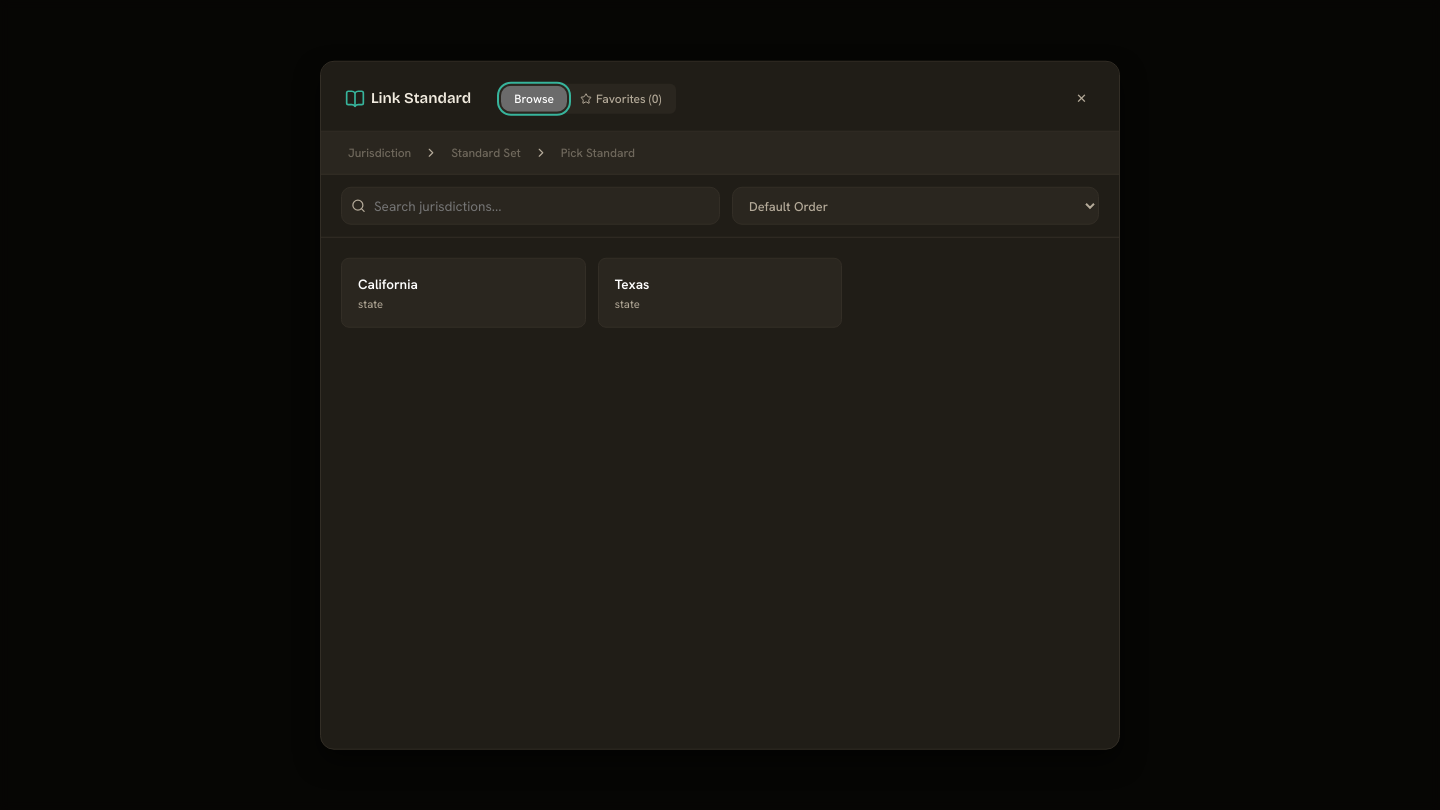
StandardsPickerModal › navigates back via breadcrumbs
Click the text "California" at (388, 284), box [358, 275, 418, 293]
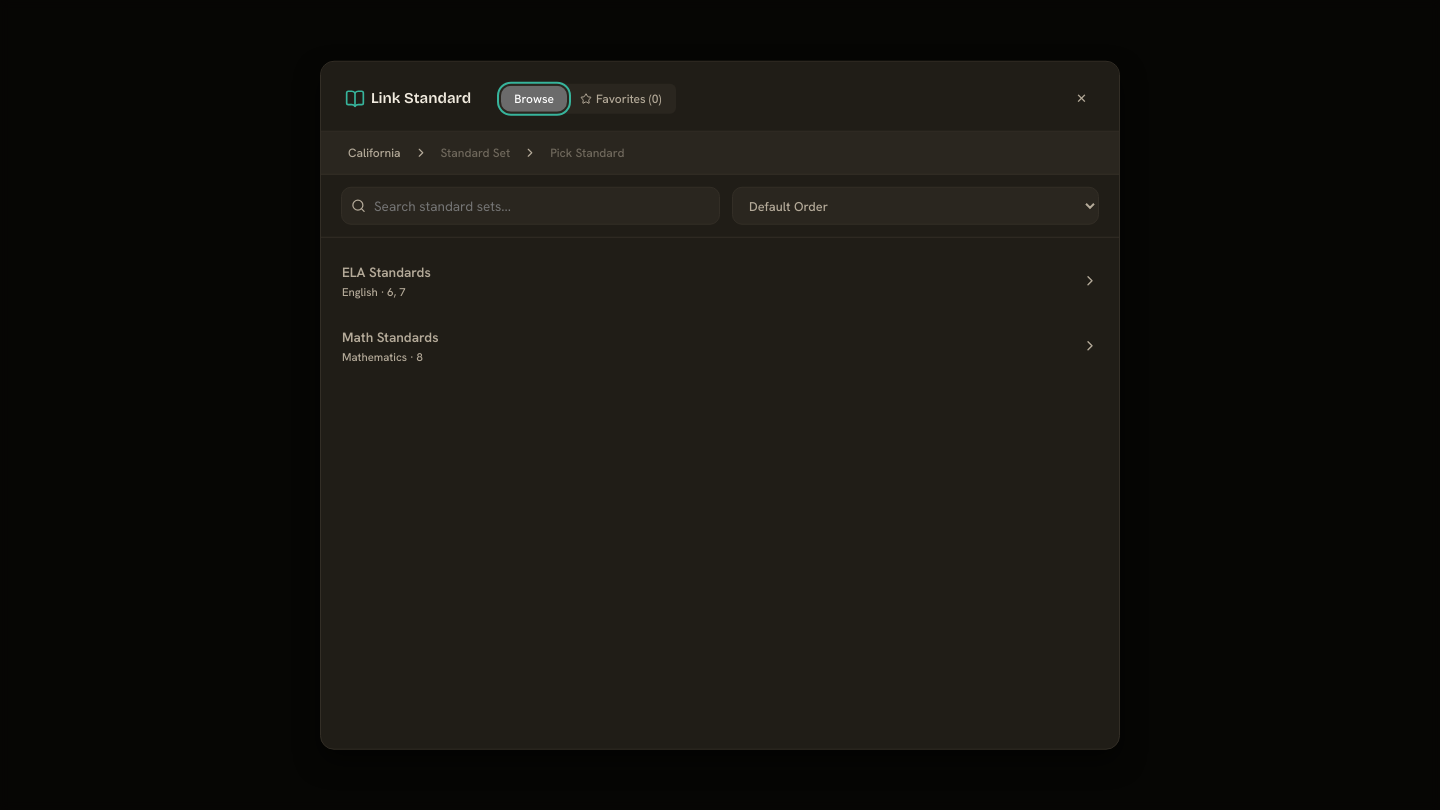
expect the text "ELA Standards" is shown: met
Click the text "ELA Standards" at (386, 272), box [342, 263, 431, 281]
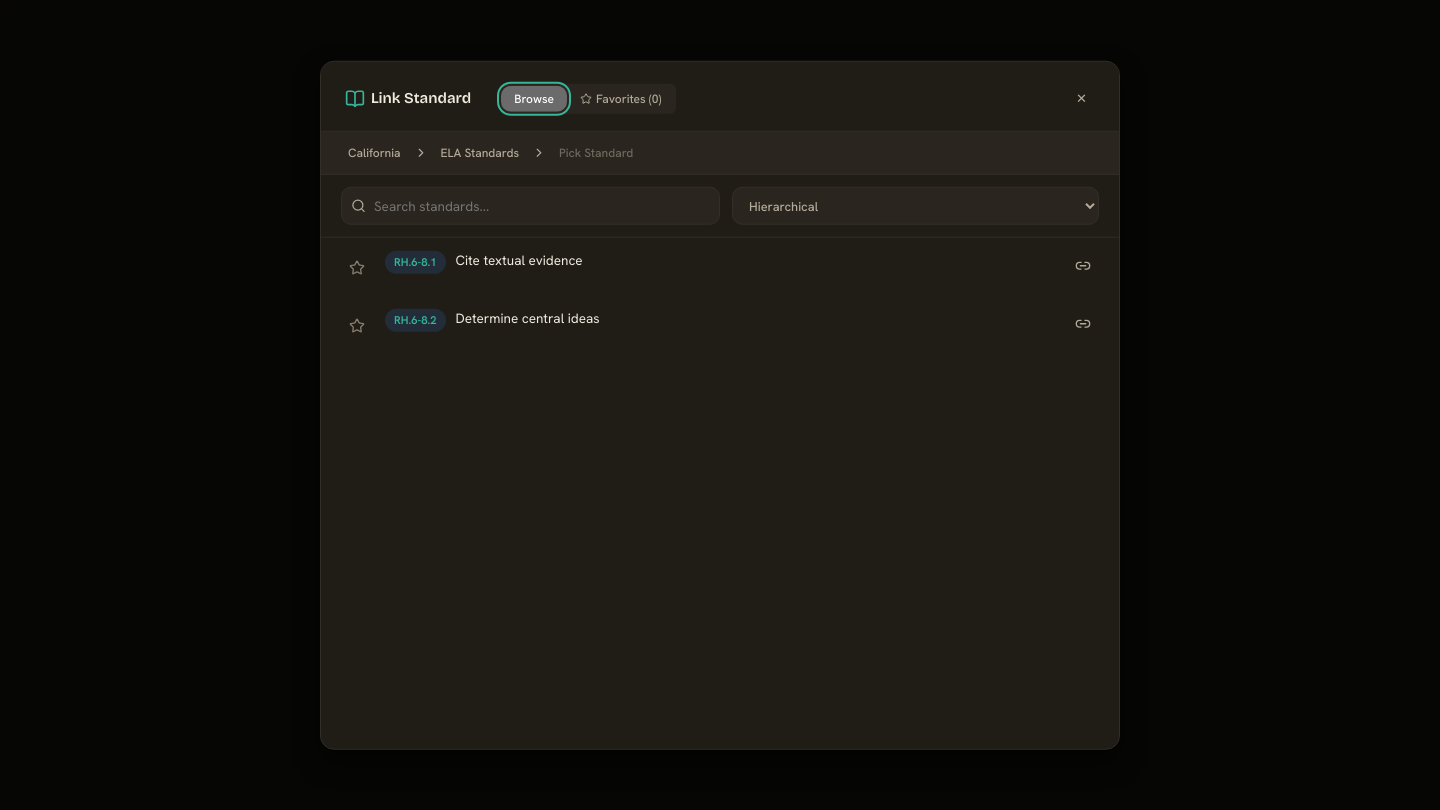
expect the text "Cite textual evidence" is shown: met, box [456, 250, 583, 270]
Click the button "ELA Standards" at (480, 153), box [434, 142, 526, 164]
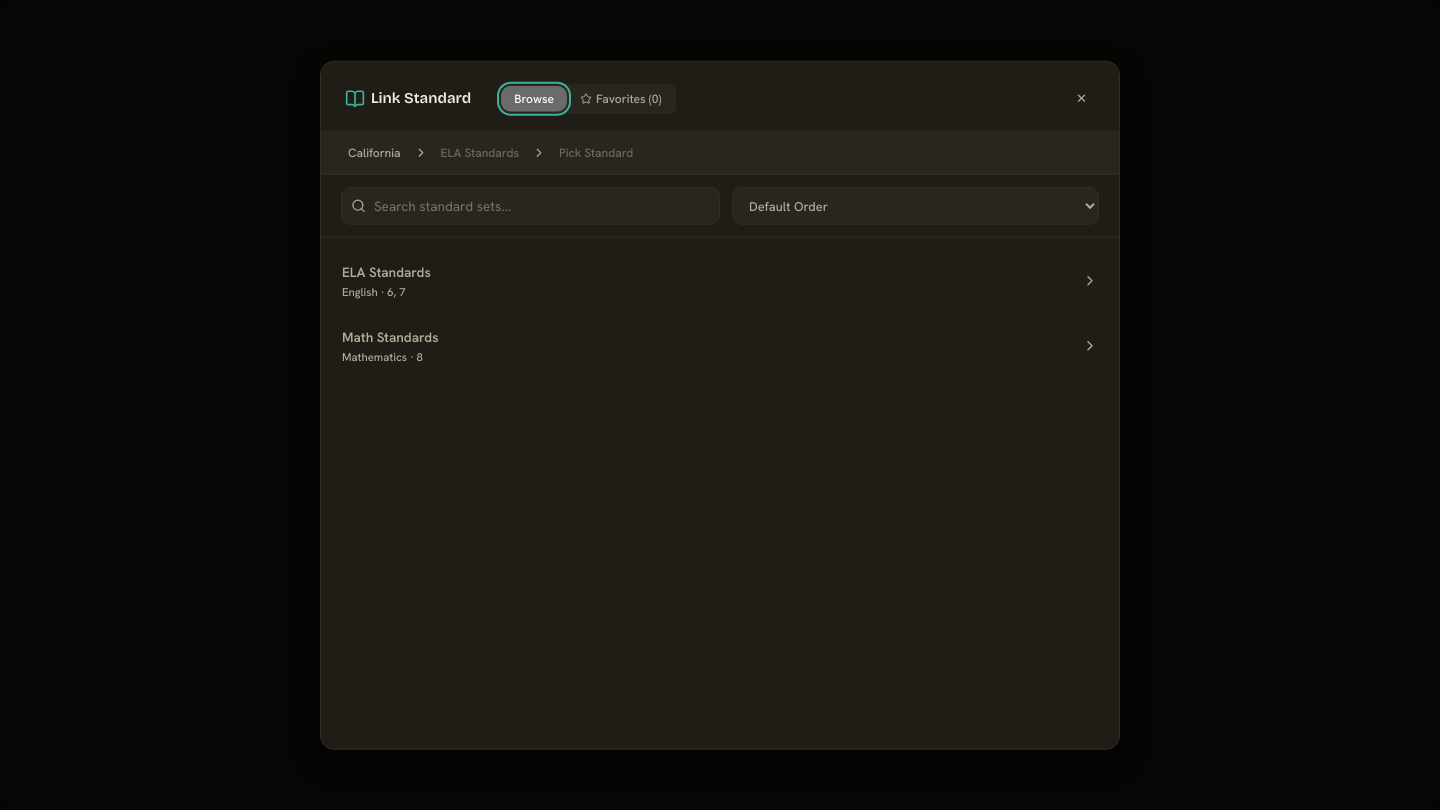
expect the text "Math Standards" is shown: met, box [342, 328, 438, 346]
Click the button "California" at (374, 153), box [341, 142, 408, 164]
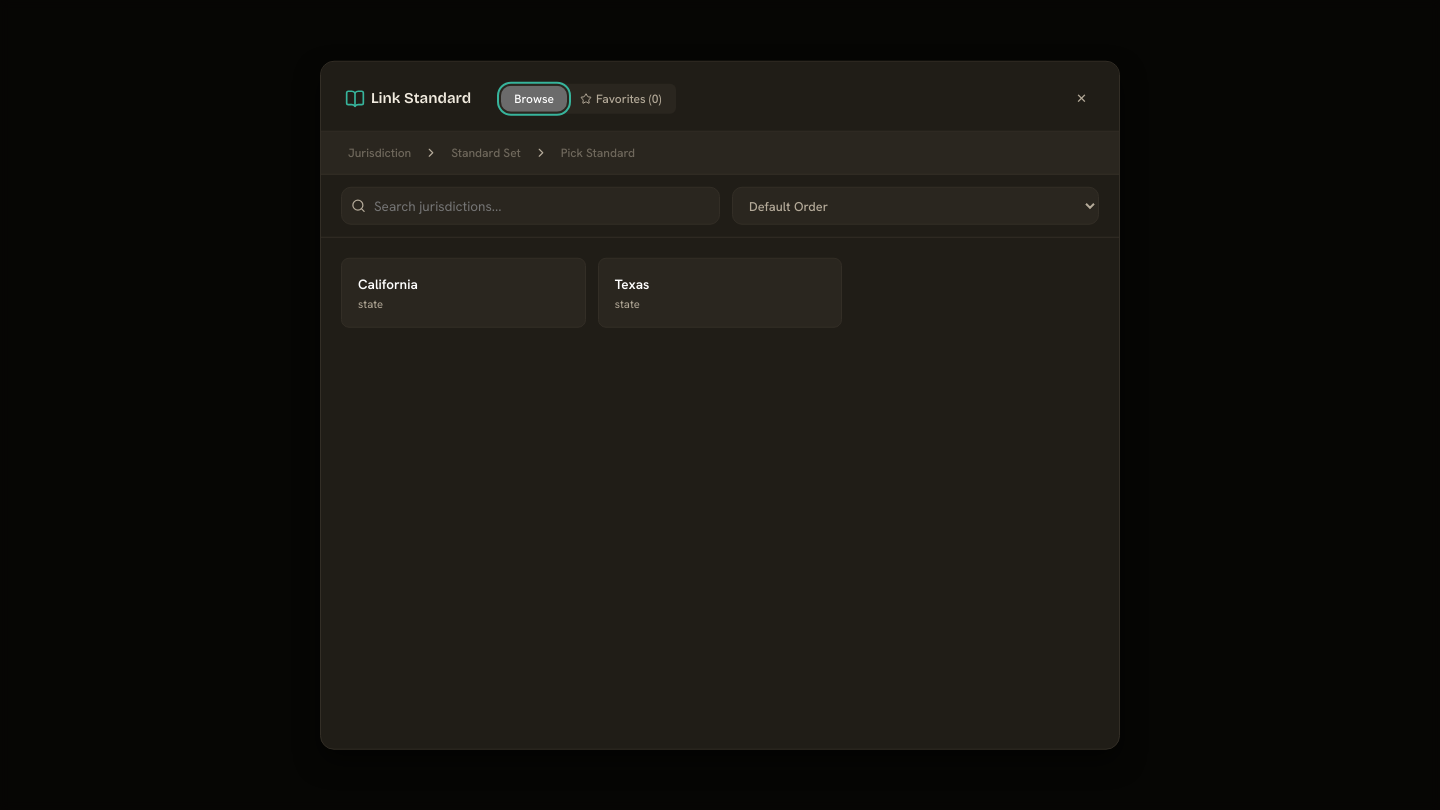
expect the text "Texas" is shown: met, box [615, 275, 649, 293]
